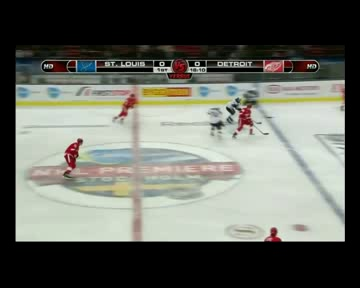normal: (201, 92, 272, 142), (109, 89, 144, 126)
